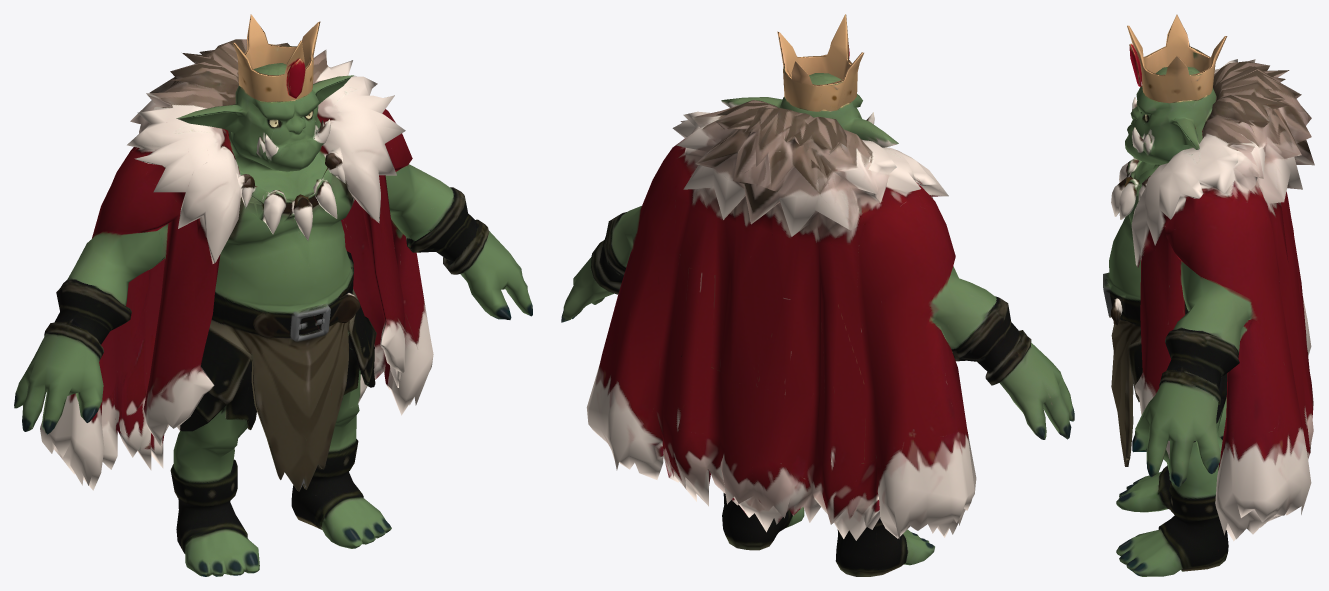
Rendered from Meshy_AI_Goblin_King_1015042834_texture.fbx.
3 renders of one model, left to right at view 1: azimuth 30°, elevation 25°; view 2: azimuth 150°, elevation 25°; view 3: azimuth 270°, elevation 25°, orthographic. The views are drawn at different scales.
Parts seen in each view (by area): view 1: Mesh_0; view 2: Mesh_0; view 3: Mesh_0.
Part boxes in pixels (x1,y1,x2,y2): Mesh_0: (14, 14, 532, 576); Mesh_0: (561, 14, 1074, 576); Mesh_0: (1103, 14, 1314, 576).
Size of the model in its own units: 94.04 by 92.43 by 35.01.
Materials: 1 (1 with a texture image).
